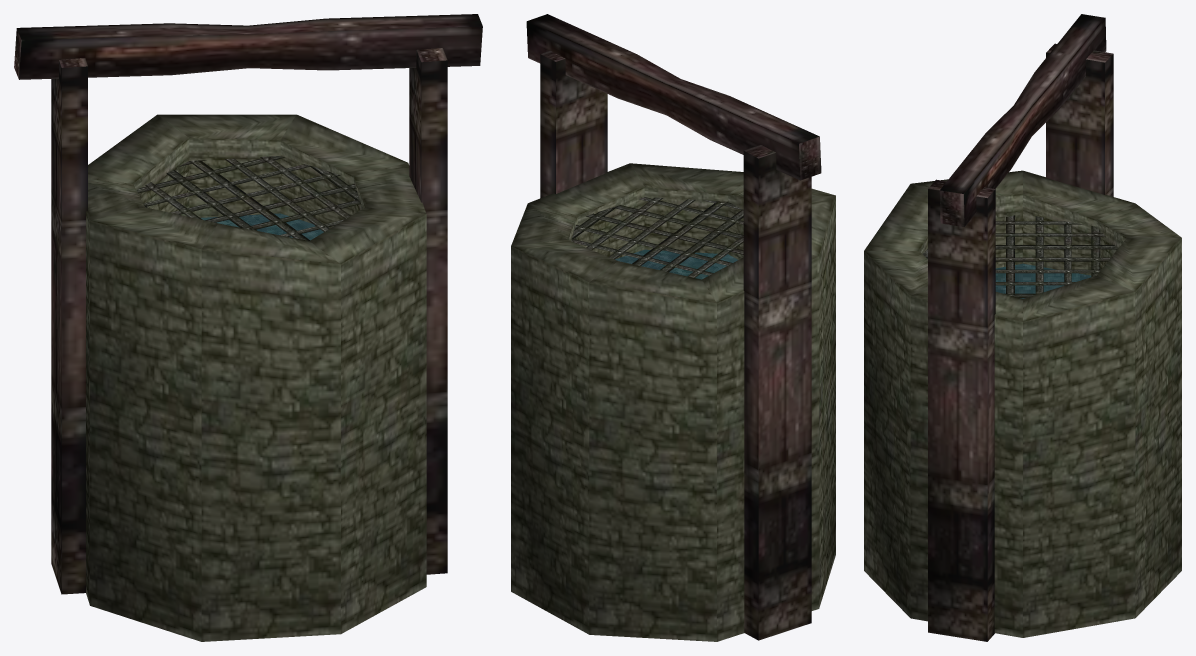
File: OC_WELL_V1.glb
The picture shows the model from 3 angles, left to right: view 1: azimuth 30°, elevation 25°; view 2: azimuth 150°, elevation 25°; view 3: azimuth 270°, elevation 25°; orthographic projection. The views are drawn at different scales.
Parts seen in each view (by area): view 1: Mesh; view 2: Mesh; view 3: Mesh.
Part boxes in pixels (box(x1,y1,x2,y2)): Mesh: box(14, 14, 482, 641); Mesh: box(511, 14, 835, 641); Mesh: box(864, 14, 1181, 641).
Bounding box in the file's own units: 2.7 × 3.63 × 2.2.
4 materials, 4 textured.
